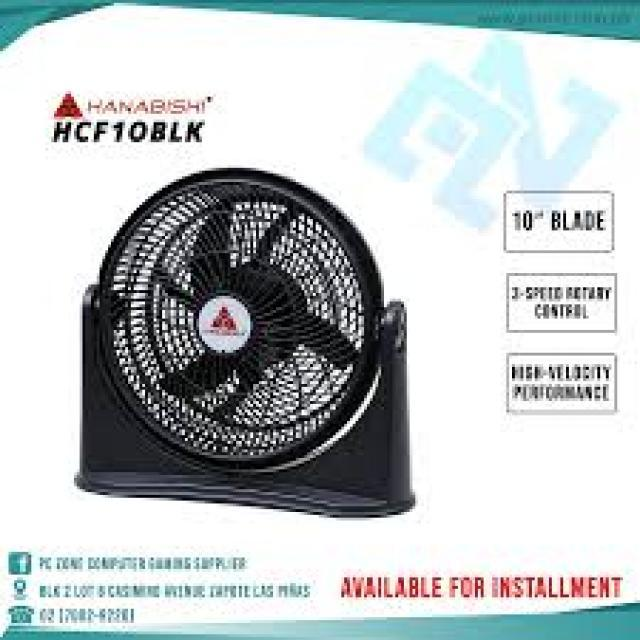fan: (70, 156, 463, 554)
